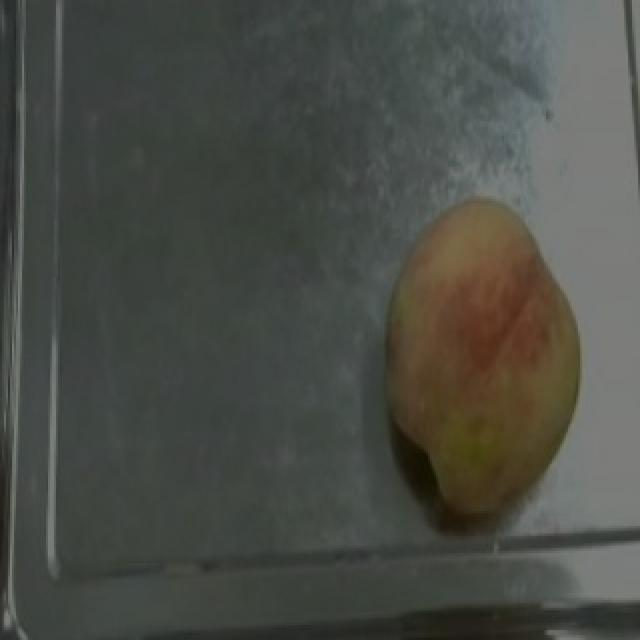Fruit: (364, 183, 600, 521)
